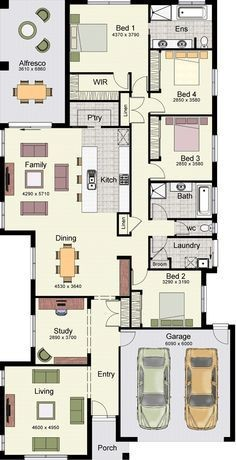room: (1, 121, 134, 298), (1, 361, 91, 460), (64, 1, 152, 94), (127, 255, 208, 333), (145, 47, 220, 117), (144, 112, 219, 182), (25, 293, 93, 368), (147, 1, 217, 51), (148, 180, 218, 220), (146, 235, 218, 272)
